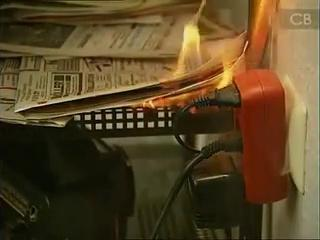Fire: (130, 0, 270, 112)
